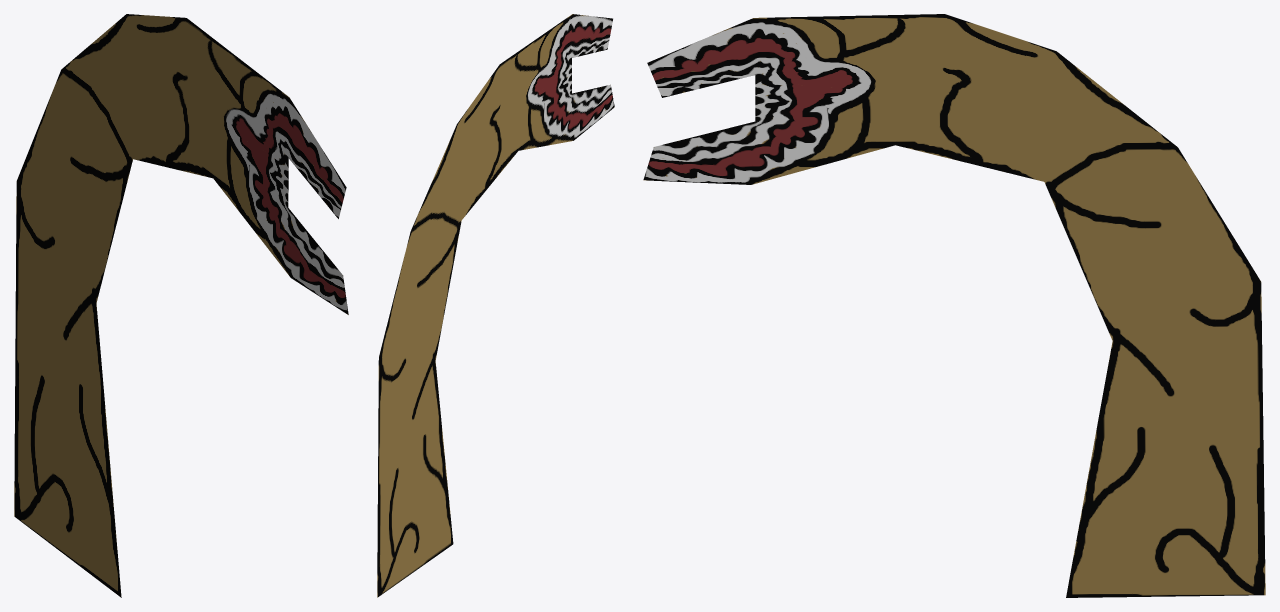
Rendered from gusano.fbx.
3 views of the same model, side by side, from view 1: azimuth 30°, elevation 25°; view 2: azimuth 150°, elevation 25°; view 3: azimuth 270°, elevation 25° (orthographic). The views are drawn at different scales.
Parts seen in each view (by area): view 1: Plano.008; view 2: Plano.008; view 3: Plano.008.
Part boxes in pixels (x1,y1,x2,y2): Plano.008: (14, 14, 348, 597); Plano.008: (377, 14, 614, 597); Plano.008: (643, 14, 1265, 597).
Size of the model in its own units: 6.59e-05 by 215 by 208.
1 material, 1 textured.
